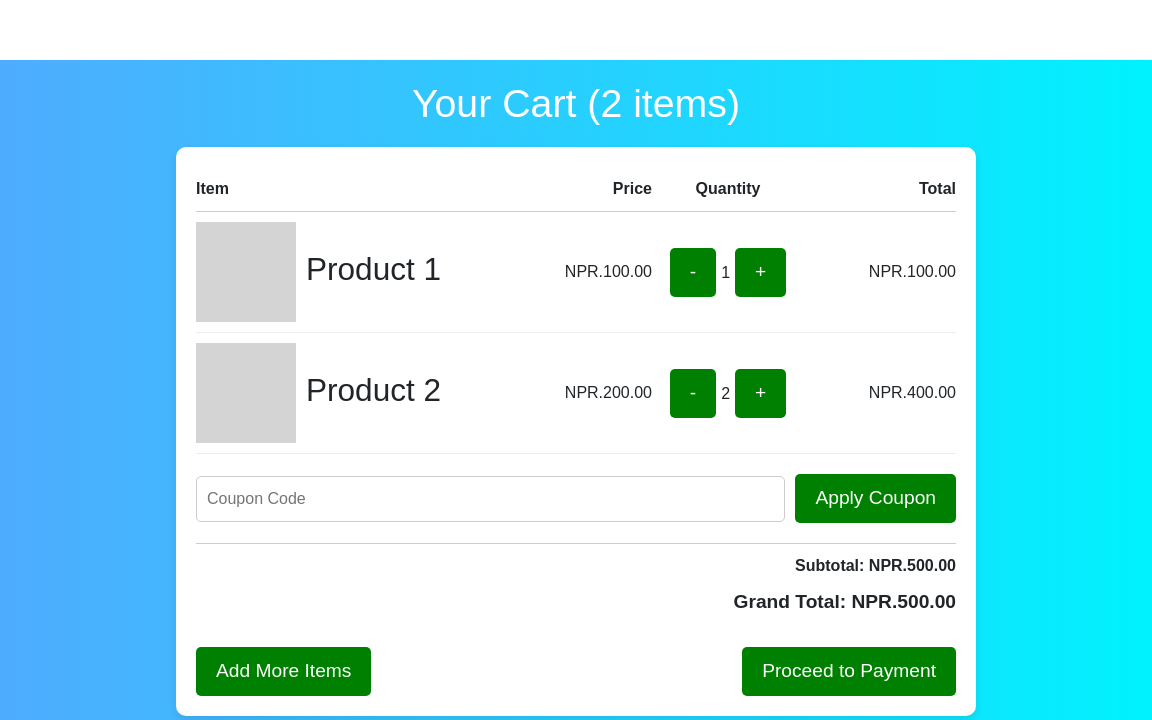
Scenario: Cart Component › should display cart items and handle quantity updates
The width and height of the screenshot is (1152, 720).
expect the heading "Product 1" is shown: met, box [306, 251, 441, 289]
expect the heading "Product 2" is shown: met, box [306, 372, 441, 410]
Note: Simulate incrementing quantity
Click the button "+" in the row of "Product 1". click: (761, 272)
box: [735, 248, 786, 296]
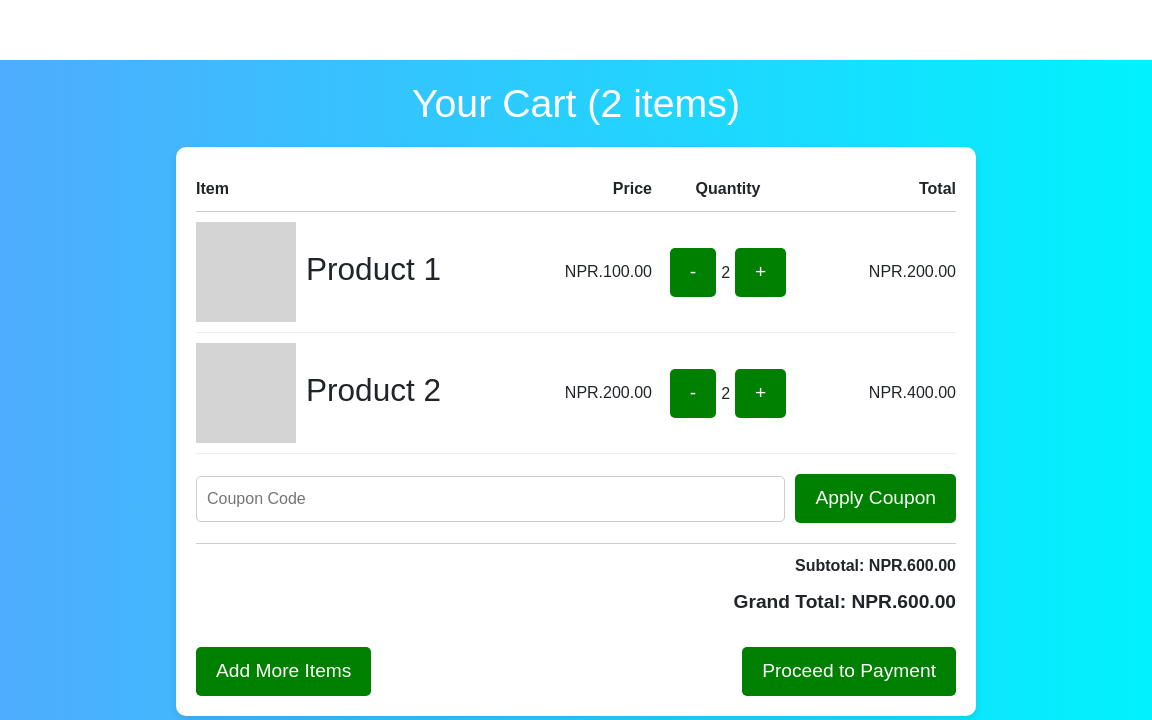
Note: Simulate decrementing quantity
Click the button "-" in the row of "400.00". click: (693, 393)
box: [670, 369, 716, 418]
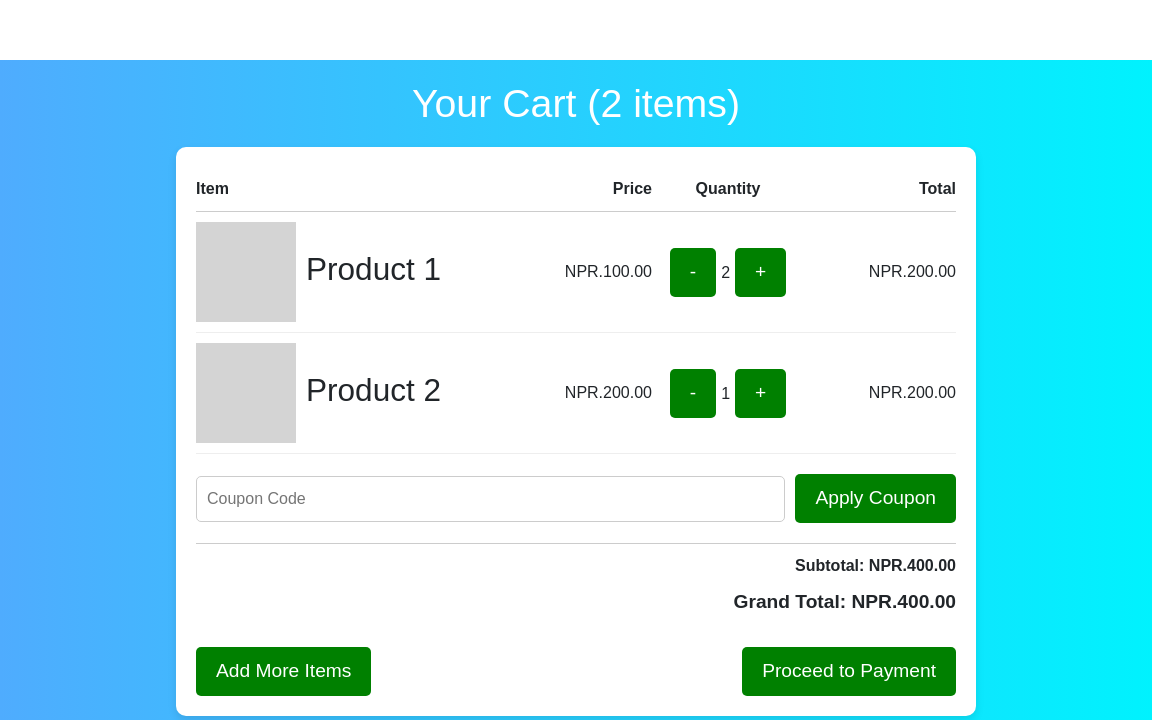
Note: Simulate removing an item
Click the button "-" in the row of "Product 2". click: (693, 393)
box: [670, 369, 716, 418]
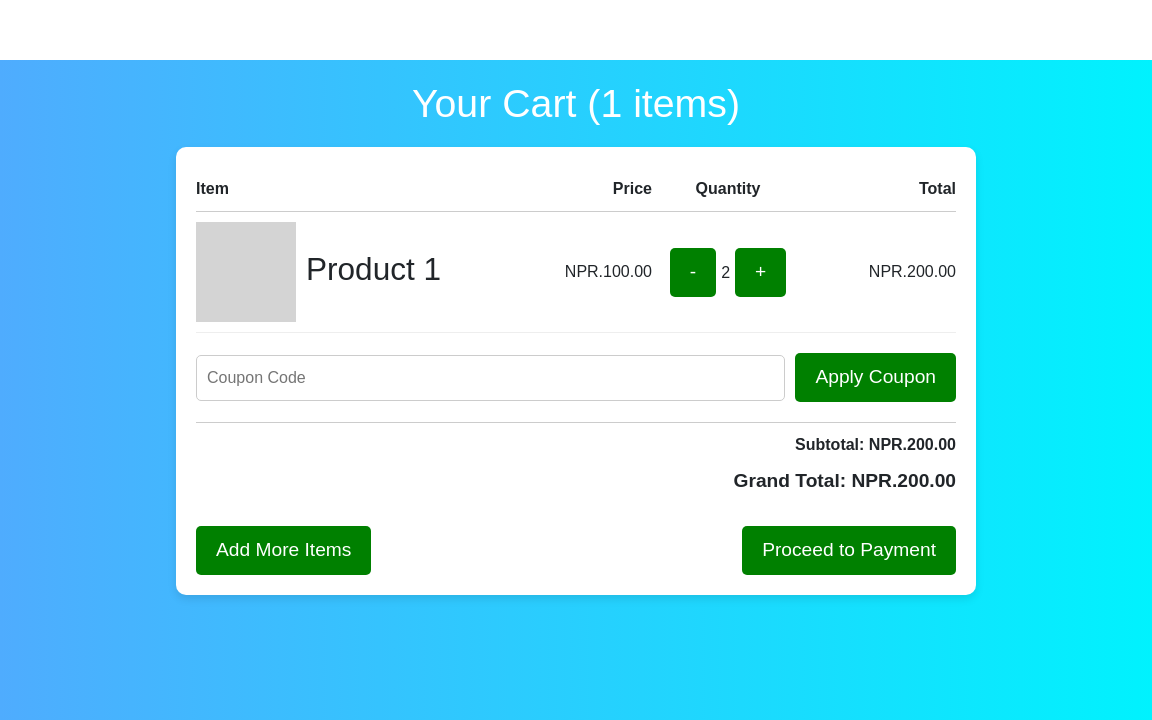
expect the heading "Product 2" is gone: met
